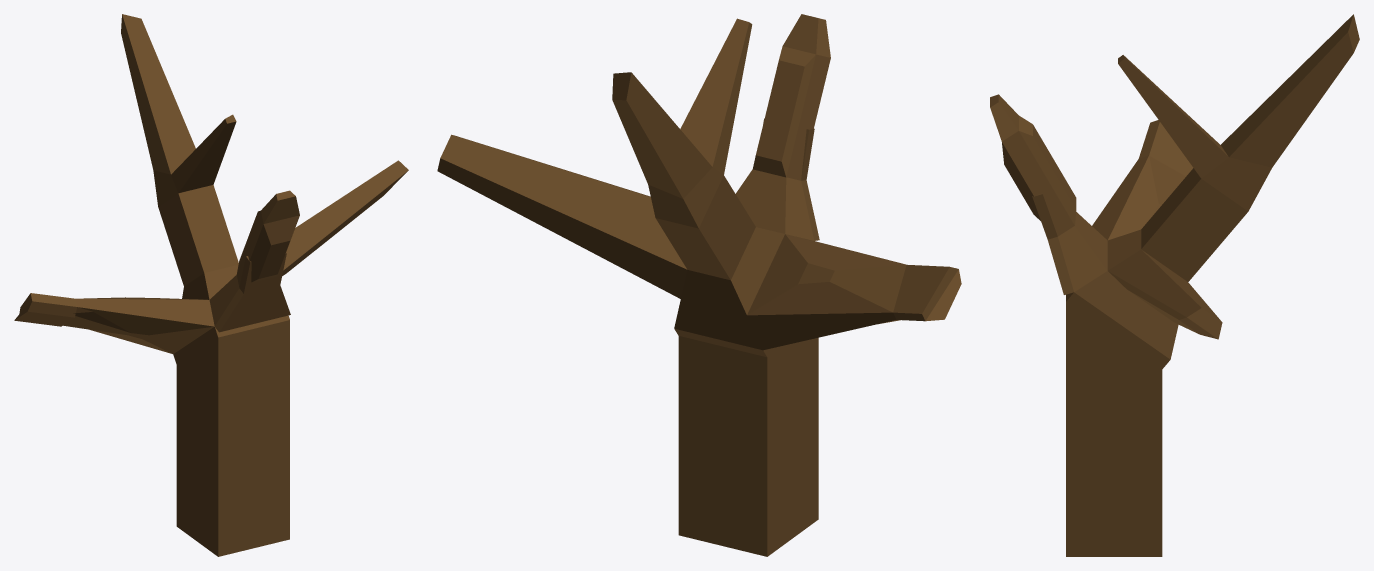
Rendered from DeadTree.fbx.
3 renders of one model, left to right at view 1: azimuth 30°, elevation 25°; view 2: azimuth 150°, elevation 25°; view 3: azimuth 270°, elevation 25°, orthographic. The views are drawn at different scales.
Visible parts, largest first — view 1: DeadTree; view 2: DeadTree; view 3: DeadTree.
Part boxes in pixels (x1,y1,x2,y2): DeadTree: (14, 14, 408, 556); DeadTree: (437, 14, 961, 556); DeadTree: (990, 14, 1359, 556).
Size of the model in its own units: 1101 by 1185 by 766.
